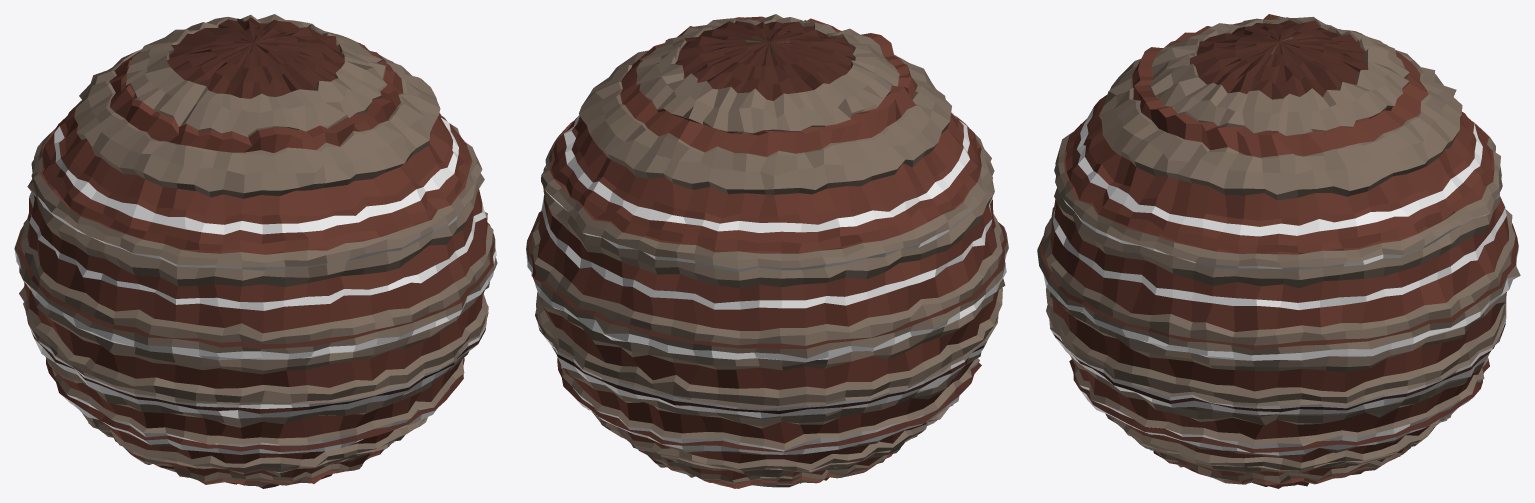
Rendered from Jupiter_6.fbx.
The picture shows the model from 3 angles, left to right: view 1: azimuth 30°, elevation 25°; view 2: azimuth 150°, elevation 25°; view 3: azimuth 270°, elevation 25°; orthographic projection.
Visible parts, largest first — view 1: Sphere; view 2: Sphere; view 3: Sphere.
Boxes of the visible parts, x1,y1,x2,y2 form: Sphere: (14,14,497,488); Sphere: (526,14,1008,488); Sphere: (1037,14,1520,488).
Bounding box in the file's own units: 943 × 904 × 943.
